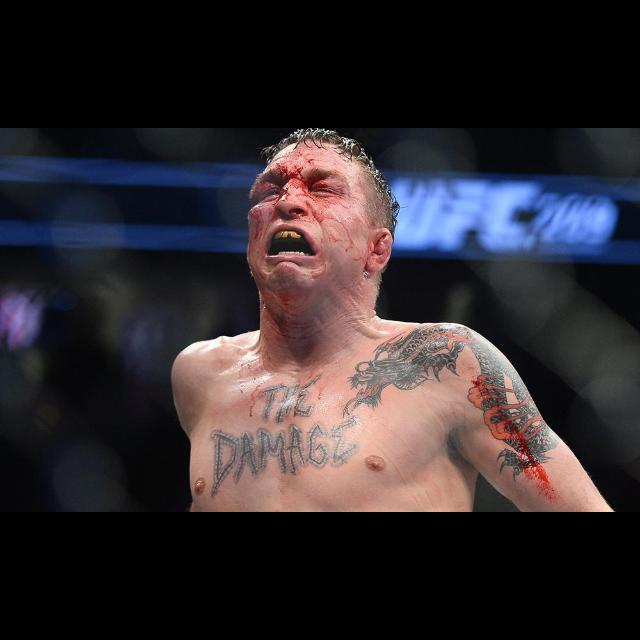blood: (248, 143, 370, 262), (469, 374, 558, 500), (225, 345, 332, 423)
